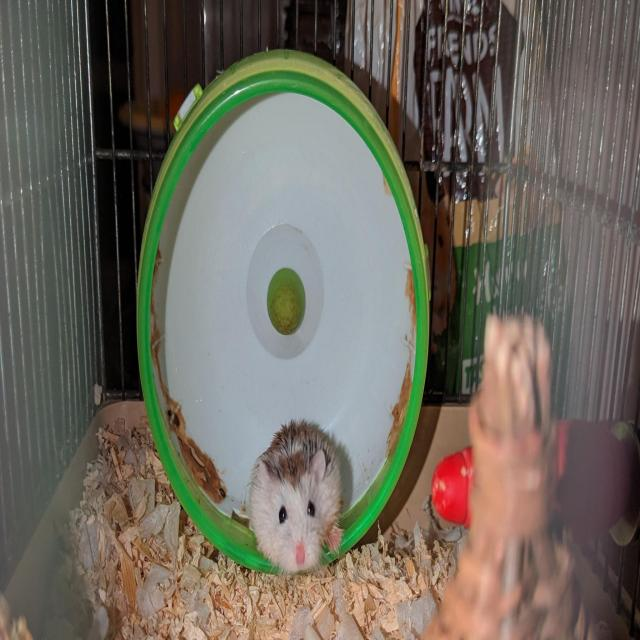hamster: (247, 418, 349, 573)
